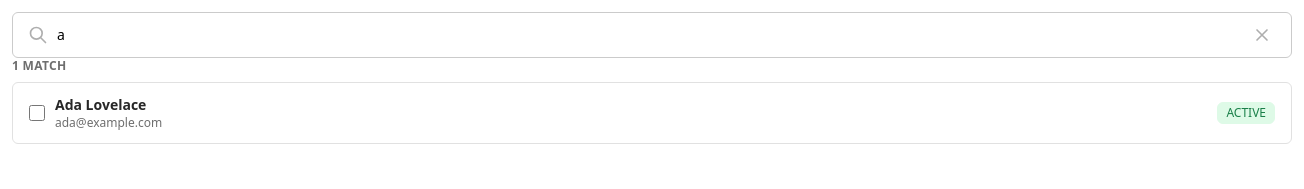
Test: UserSearchPanel selection › ticking a row adds the user without opening them
Click the checkbox named "Select Ada Lovelace". click: point(37, 113)
box: [29,105,45,121]
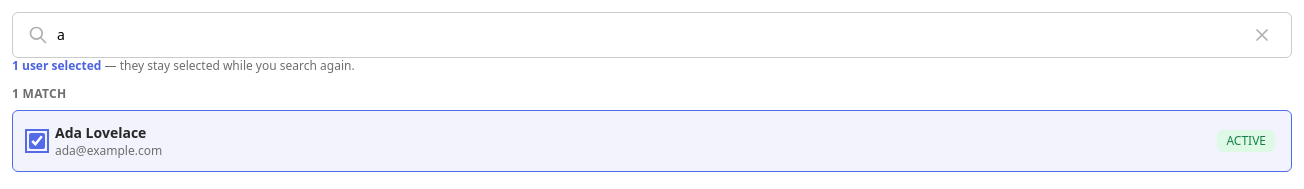
Expected: the text "1 user selected" is shown, [12,57,101,74]
